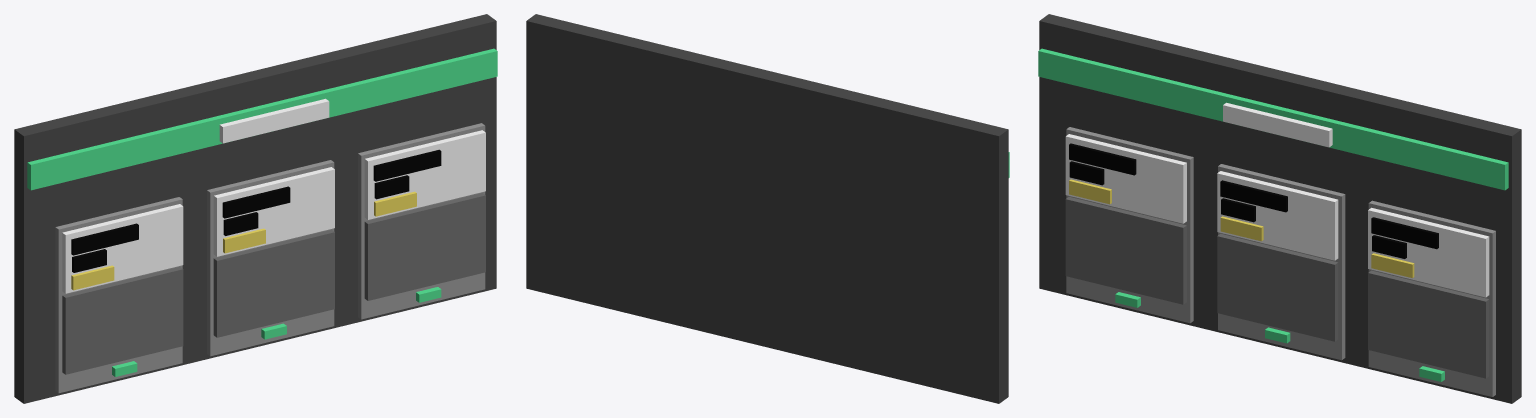
The picture shows the model from 3 angles, left to right: view 1: azimuth 30°, elevation 25°; view 2: azimuth 150°, elevation 25°; view 3: azimuth 330°, elevation 25°; orthographic projection.
Visible parts, largest first — view 1: Cube.023; view 2: Cube.023; view 3: Cube.023.
Boxes of the visible parts, bbox=[...] form: Cube.023: bbox=[14, 14, 497, 403]; Cube.023: bbox=[526, 14, 1009, 403]; Cube.023: bbox=[1038, 14, 1521, 403].
Bounding box in the file's own units: 21.11 × 11.42 × 1.5.
